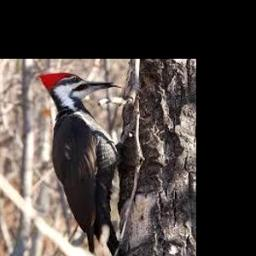Woodpecker: (39, 73, 124, 256)
